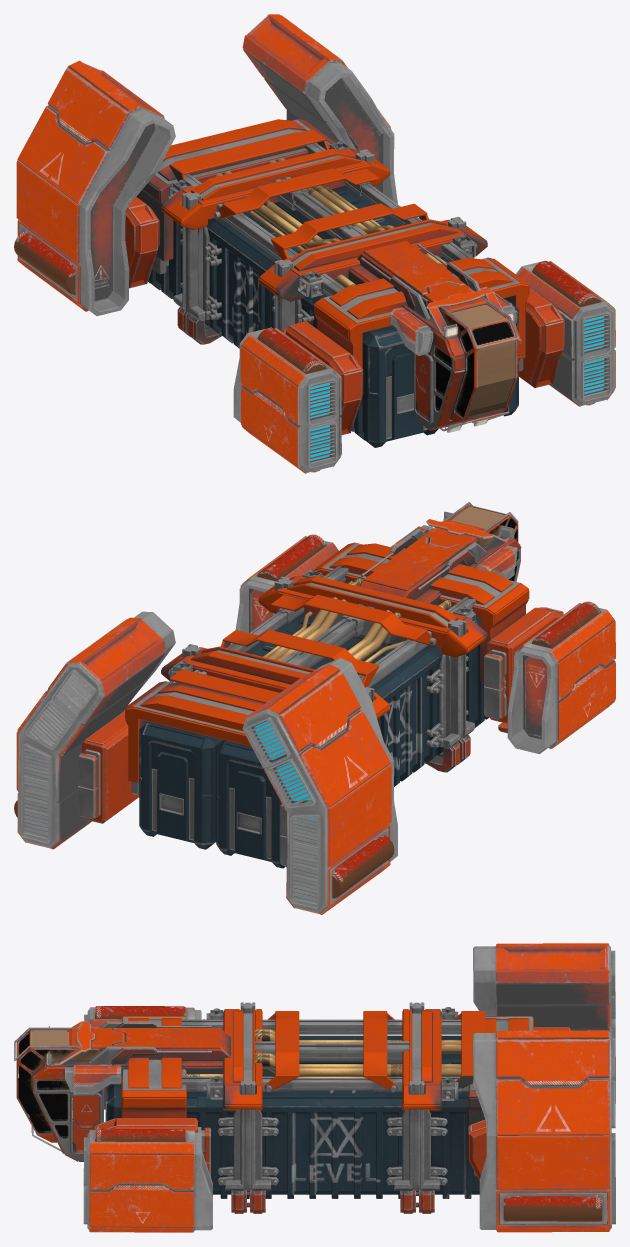
Rendered from corinth.glb.
3 views of the same model, one above another, from view 1: azimuth 30°, elevation 25°; view 2: azimuth 150°, elevation 25°; view 3: azimuth 270°, elevation 25° (orthographic). The views are drawn at different scales.
Visible parts, largest first — view 1: Object_25, Object_2, Object_14, Object_11, Object_23, Object_24, Object_17, Object_6, Object_13, Object_3, Object_16; view 2: Object_25, Object_2, Object_11, Object_14, Object_24, Object_23, Object_6, Object_3, Object_13, Object_16, Object_17; view 3: Object_25, Object_2, Object_11, Object_14, Object_6, Object_23, Object_17, Object_13, Object_3, Object_24, Object_16.
Boxes of the visible parts, x1,y1,x2,y2 form: Object_25: [16, 14, 397, 315]; Object_2: [136, 119, 529, 396]; Object_14: [14, 232, 615, 473]; Object_11: [148, 186, 518, 447]; Object_23: [348, 241, 521, 430]; Object_24: [125, 197, 564, 434]; Object_17: [415, 305, 514, 420]; Object_6: [173, 149, 466, 344]; Object_13: [390, 286, 518, 432]; Object_3: [215, 157, 446, 287]; Object_16: [361, 243, 480, 320]; Object_25: [16, 611, 397, 914]; Object_2: [125, 542, 529, 795]; Object_11: [139, 613, 488, 868]; Object_14: [14, 534, 615, 898]; Object_24: [78, 607, 563, 867]; Object_23: [330, 504, 521, 645]; Object_6: [182, 576, 474, 772]; Object_3: [263, 578, 451, 662]; Object_13: [391, 502, 518, 579]; Object_16: [361, 528, 486, 590]; Object_17: [451, 507, 518, 581]; Object_25: [473, 943, 615, 1232]; Object_2: [121, 1007, 533, 1176]; Object_11: [105, 1035, 479, 1198]; Object_14: [83, 1006, 602, 1232]; Object_6: [217, 1002, 447, 1213]; Object_23: [16, 1028, 275, 1161]; Object_17: [18, 1031, 100, 1152]; Object_13: [14, 1021, 121, 1151]; Object_3: [186, 1029, 461, 1077]; Object_24: [94, 1027, 571, 1181]; Object_16: [88, 1021, 211, 1064].
Bounding box in the file's own units: 38.78 × 23.16 × 67.12.
Materials: 12 (11 with a texture image).
